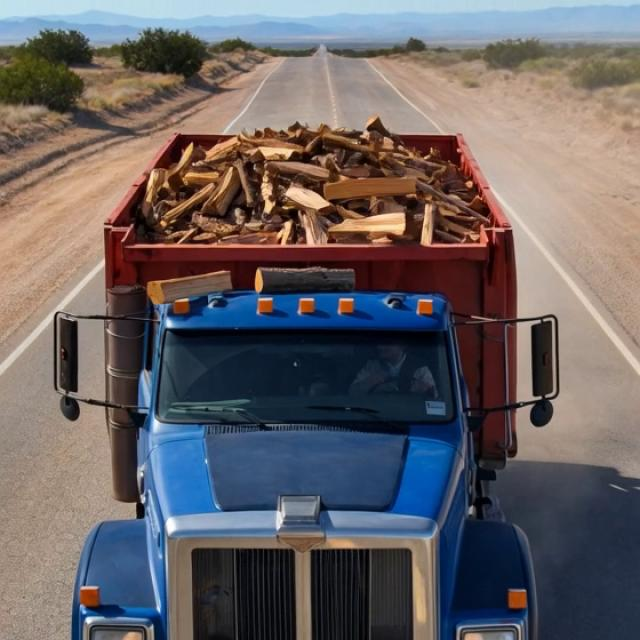trailer: (97, 113, 537, 255)
truck: (55, 103, 590, 634)
